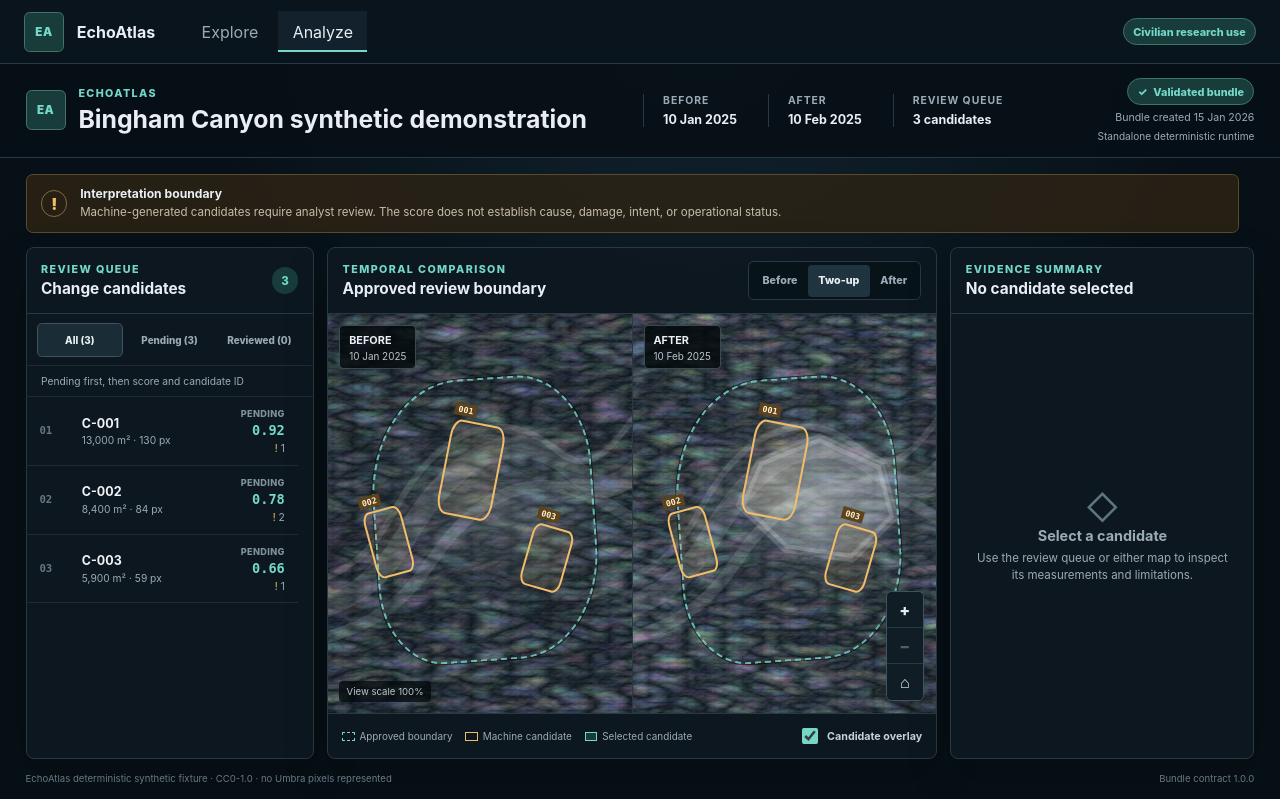
Test: App › keeps Explore and Analyze as reversible peer modes
Expected: the heading "Bingham Canyon synthetic demonstration" is shown, [78,105,587,134]
Click the button "Explore" at x=230, y=32, box [187,11,273,52]
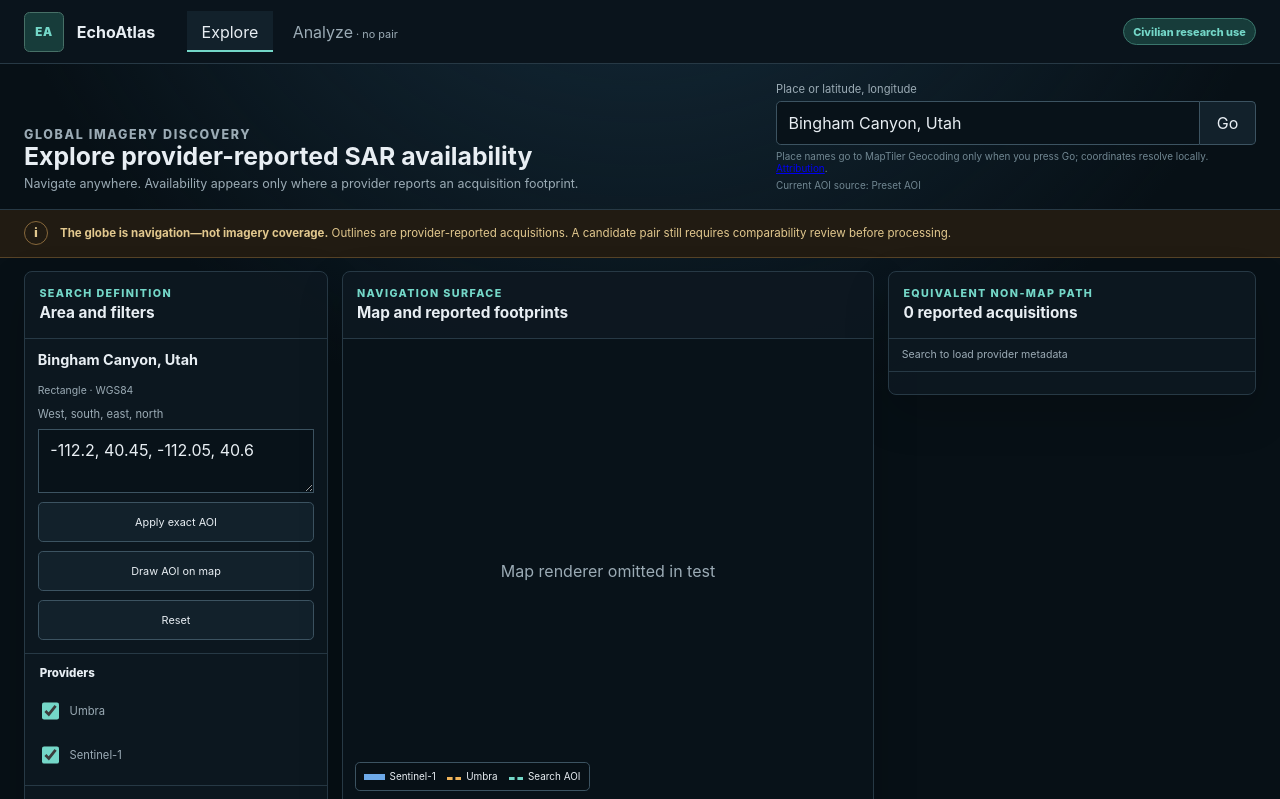
Now the heading "Explore provider-reported SAR availability" is shown, box [24,142,578,170]
Click the button "Analyze · no pair" at x=345, y=32, box [278,11,412,52]
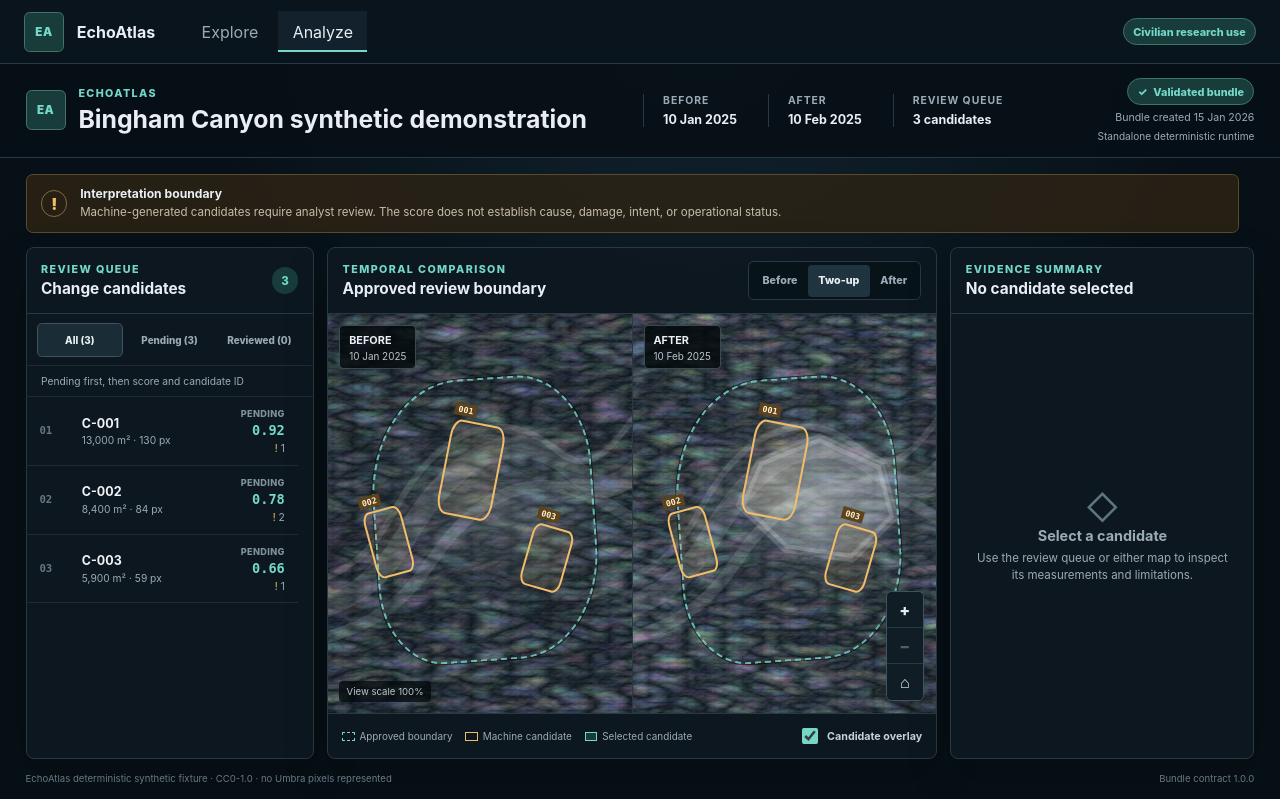
Now the heading "Bingham Canyon synthetic demonstration" is shown, box [78,105,587,134]
